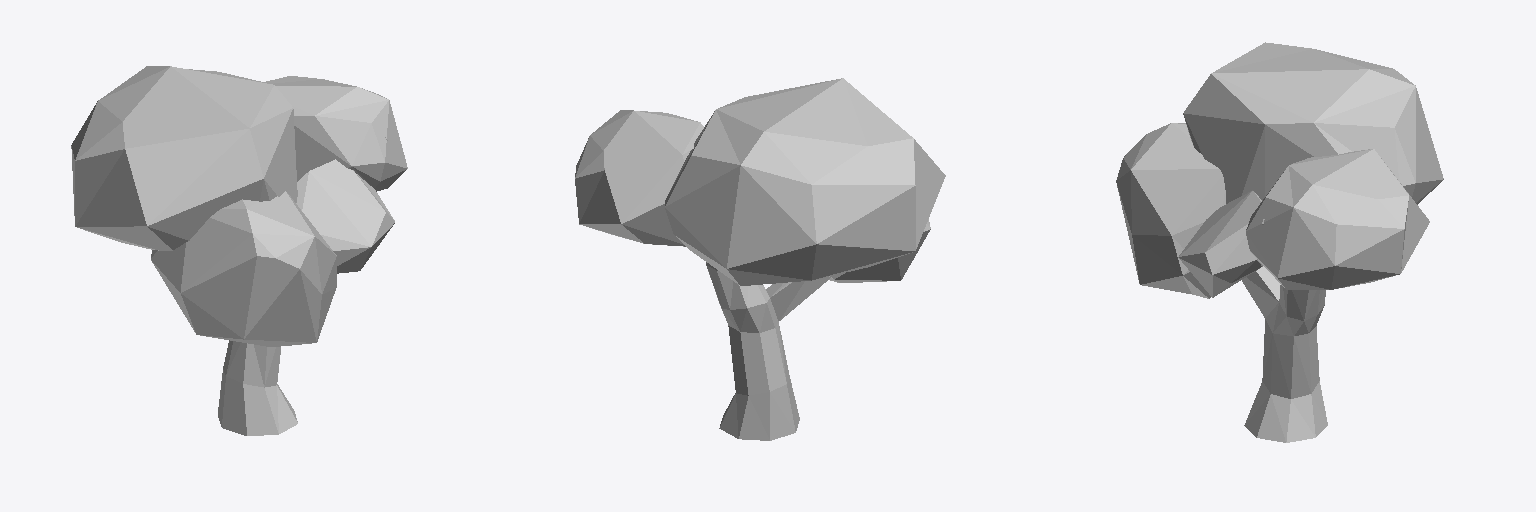
Rendered from tree_01.obj.
3 renders of one model, left to right at view 1: azimuth 30°, elevation 25°; view 2: azimuth 150°, elevation 25°; view 3: azimuth 270°, elevation 25°, orthographic.
Visible parts, largest first — view 1: tree1; view 2: tree1; view 3: tree1.
Boxes of the visible parts, box(x1,y1,x2,y2) form: tree1: box(71, 66, 407, 435); tree1: box(575, 78, 945, 440); tree1: box(1116, 42, 1443, 442).
Size of the model in its own units: 15.9 by 15.44 by 13.75.